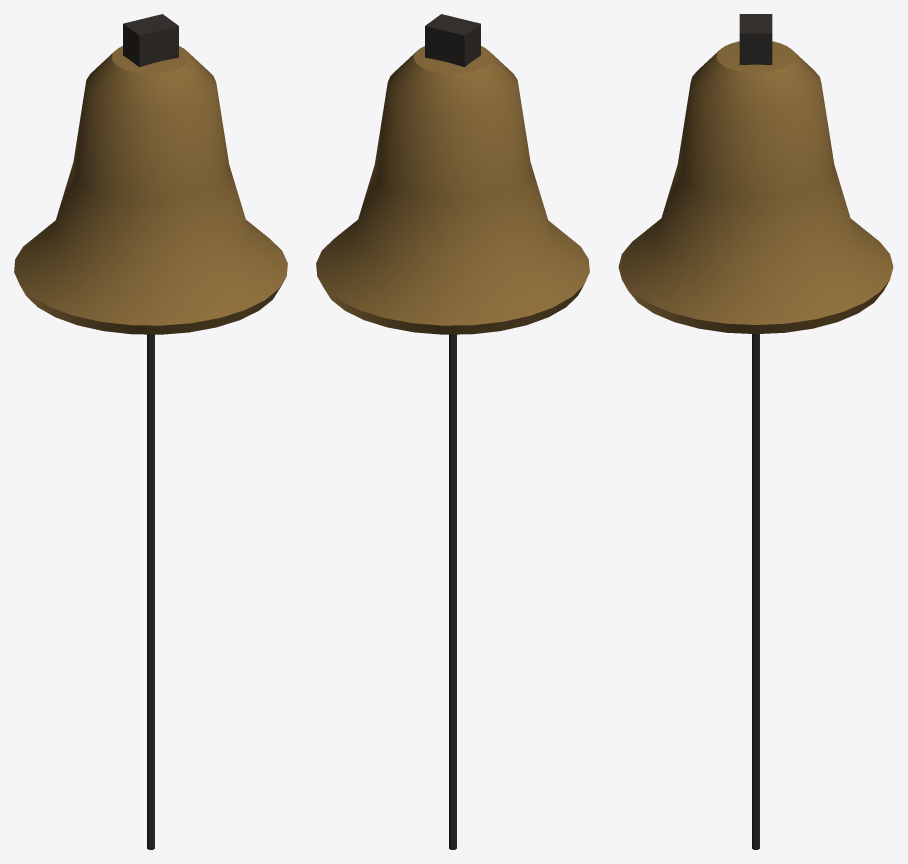
The model's file is bell.glb.
The picture shows the model from 3 angles, left to right: view 1: azimuth 30°, elevation 25°; view 2: azimuth 150°, elevation 25°; view 3: azimuth 270°, elevation 25°; orthographic projection.
Visible parts, largest first — view 1: bronze0, iron4, iron1; view 2: bronze0, iron4, iron1; view 3: bronze0, iron4, iron1.
Boxes of the visible parts, x1,y1,x2,y2 form: bronze0: (14,46,287,334); iron4: (147,334,154,849); iron1: (123,14,178,67); bronze0: (316,46,589,334); iron4: (449,334,456,849); iron1: (425,14,480,67); bronze0: (618,41,893,334); iron4: (752,334,759,849); iron1: (739,14,772,64).
Bounding box in the file's own units: 0.84 × 2.78 × 0.84.
